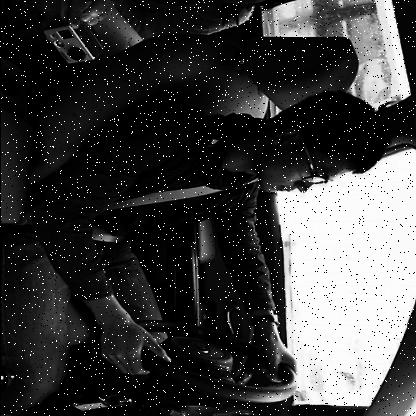seatbelt: (122, 70, 398, 228)
